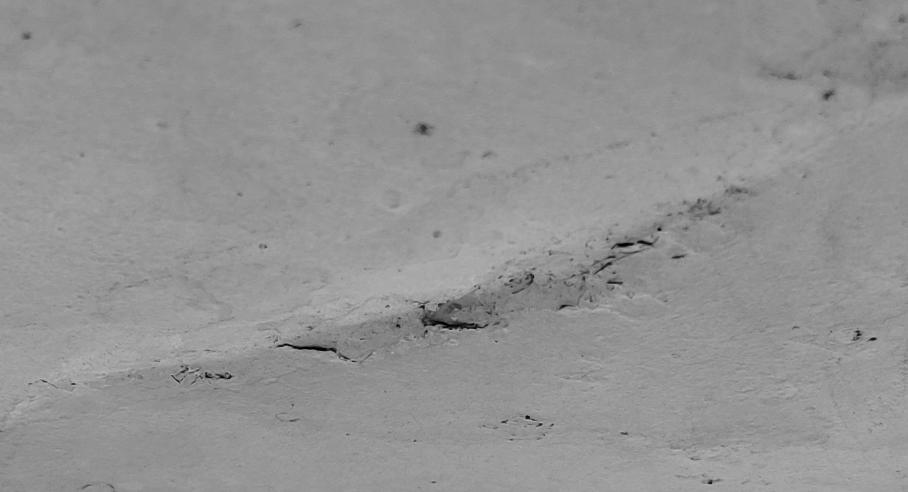dent: (1, 1, 908, 492)
